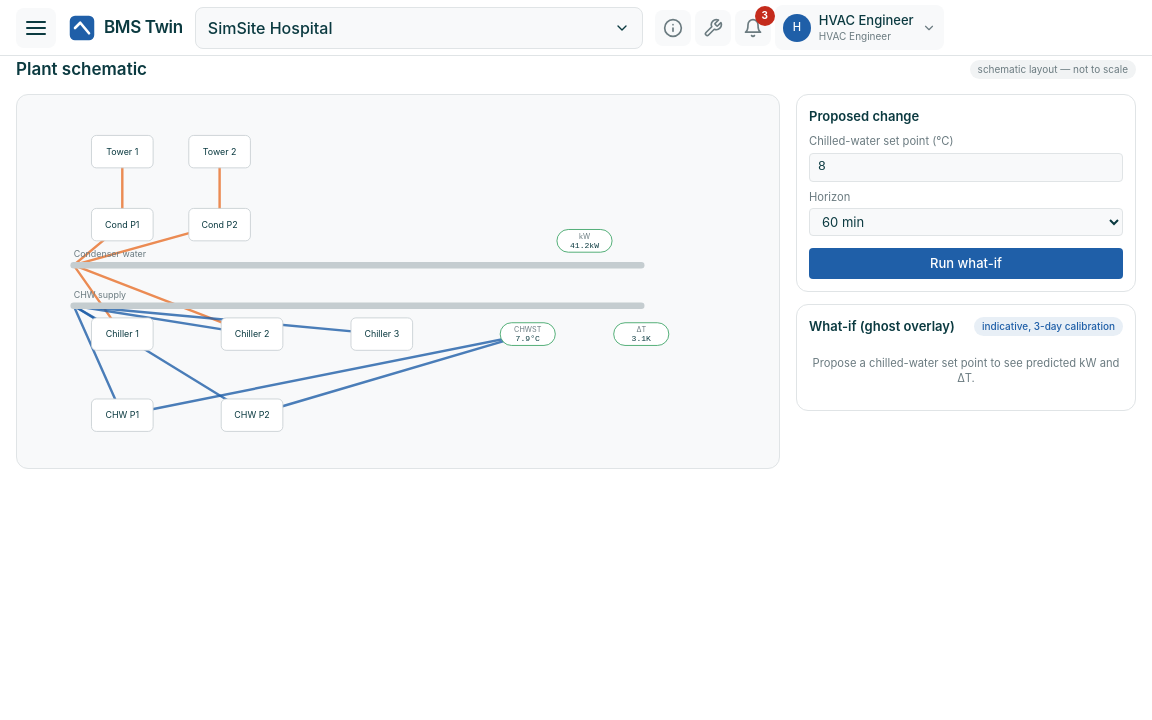
Test: PlantSchematic what-if overlay (WIF1) › shows no warning when the prediction stays inside the envelope
Click the button "Run what-if": click(966, 264) [809, 248, 1123, 279]
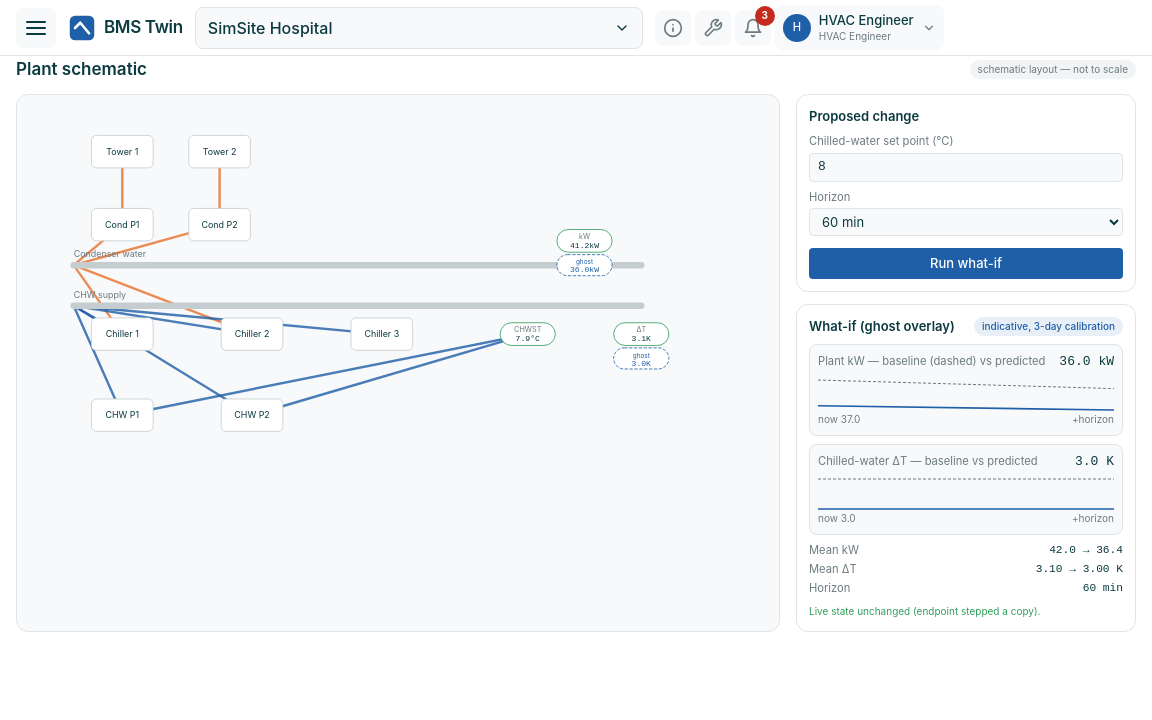
Check: the text "36.0 kW" is shown, box [1059, 353, 1114, 372]
